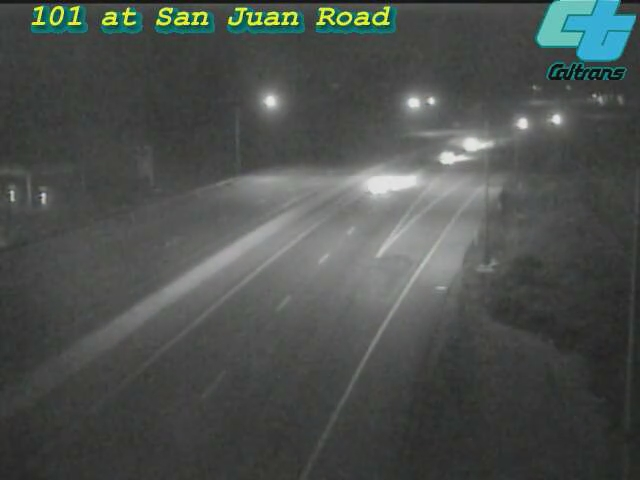vehicle: (341, 144, 421, 224), (497, 98, 547, 148), (530, 94, 580, 144), (446, 119, 496, 169), (425, 131, 475, 181)
